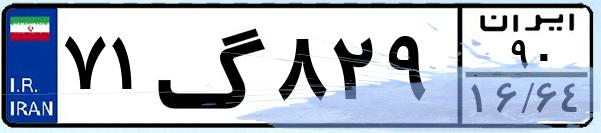0: (537, 27, 568, 80)
1: (110, 28, 156, 98), (470, 70, 495, 125)
2: (330, 28, 385, 110)
4: (560, 70, 590, 125)
6: (495, 70, 520, 125), (535, 70, 560, 125)
7: (57, 26, 110, 100)
8: (270, 28, 330, 110)
9: (385, 28, 445, 110), (508, 27, 537, 80)
گ: (156, 12, 270, 120)
